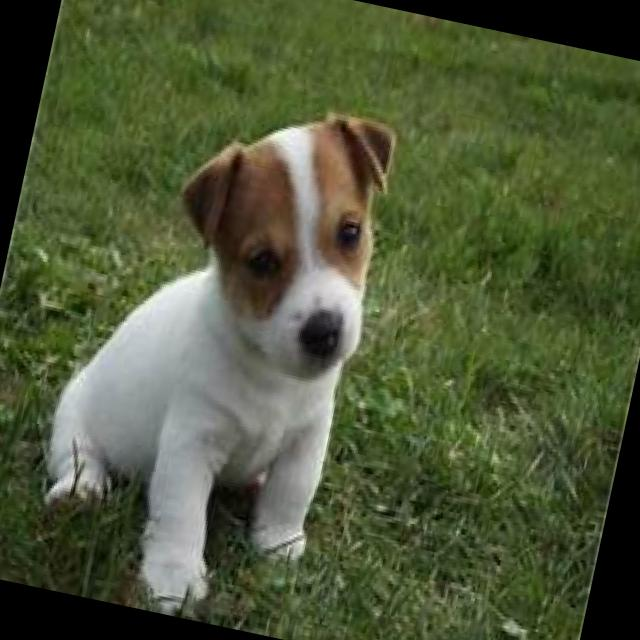animal: (24, 67, 402, 626)
